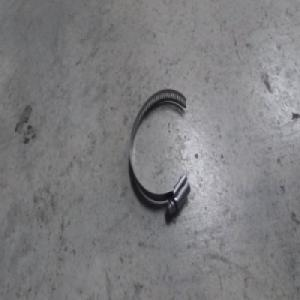AdjustableClamp: (129, 88, 193, 214)
